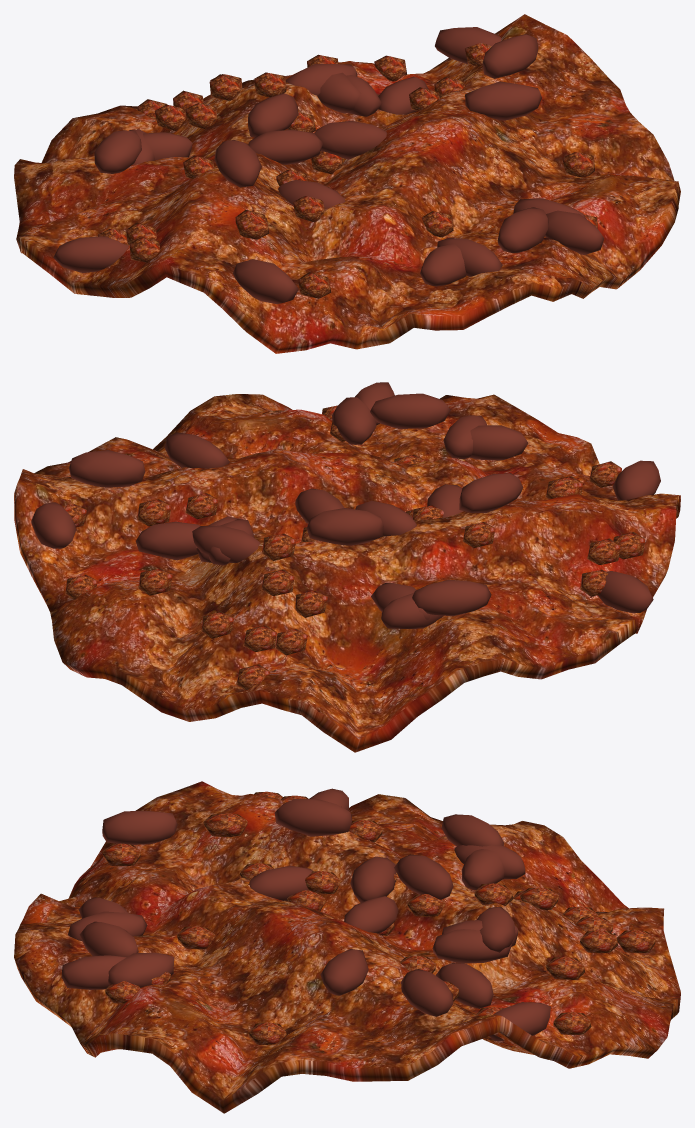
Rendered from sides-chili.glb.
3 renders of one model, top to bottom at view 1: azimuth 30°, elevation 25°; view 2: azimuth 150°, elevation 25°; view 3: azimuth 270°, elevation 25°, orthographic.
Parts seen in each view (by area): view 1: Thick chili across fries; view 2: Thick chili across fries; view 3: Thick chili across fries.
Boxes of the visible parts, x1,y1,x2,y2 form: Thick chili across fries: (14, 14, 680, 353); Thick chili across fries: (14, 382, 680, 752); Thick chili across fries: (14, 781, 680, 1113).
Bounding box in the file's own units: 1.73 × 0.4158 × 1.69.
2 materials, 1 textured.
